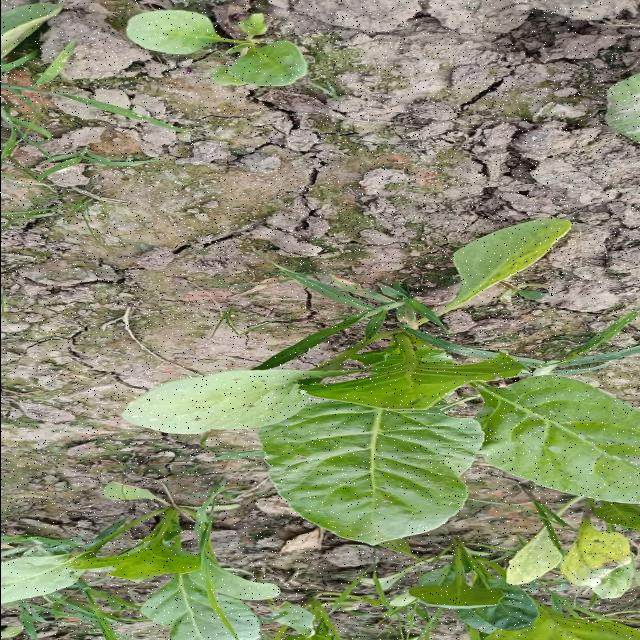plant: (123, 276, 640, 545), (3, 508, 279, 640), (443, 219, 572, 310)
